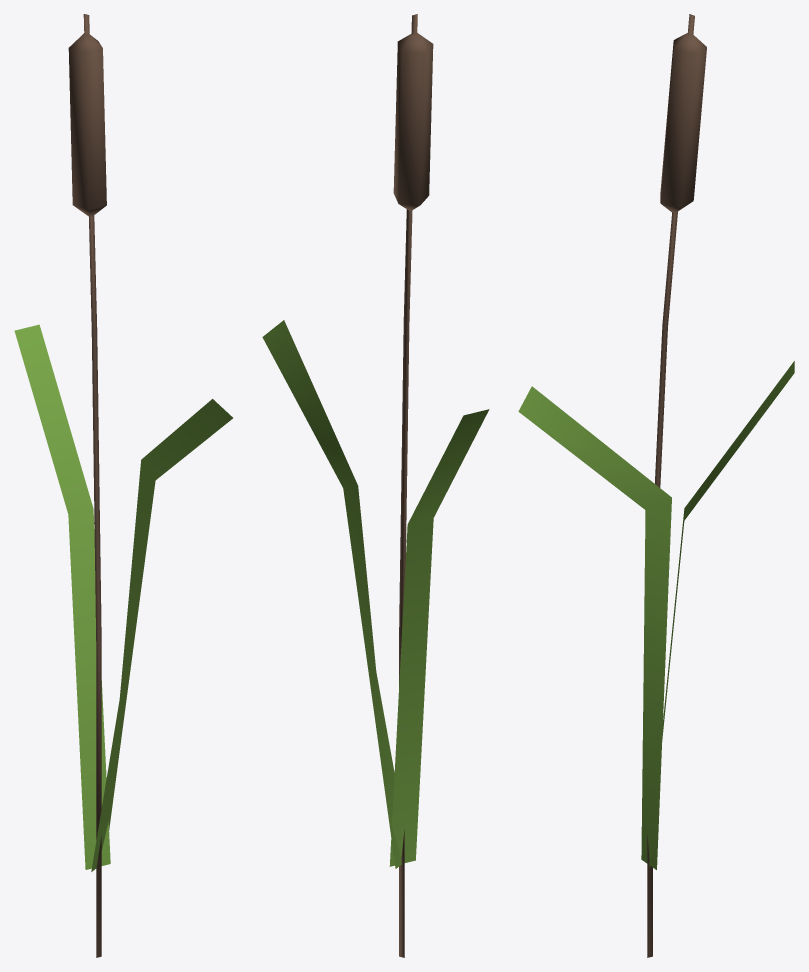
The model's file is Reed_2.fbx.
The picture shows the model from 3 angles, left to right: view 1: azimuth 30°, elevation 25°; view 2: azimuth 210°, elevation 25°; view 3: azimuth 270°, elevation 25°; orthographic projection. The views are drawn at different scales.
Visible parts, largest first — view 1: Reed 2; view 2: Reed 2; view 3: Reed 2.
Boxes of the visible parts, x1,y1,x2,y2 form: Reed 2: (14, 14, 232, 957); Reed 2: (262, 14, 489, 957); Reed 2: (518, 14, 794, 957).
Size of the model in its own units: 21.11 by 222 by 58.8.
